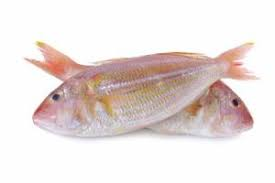Ikan Kerisi: (21, 31, 222, 142)
